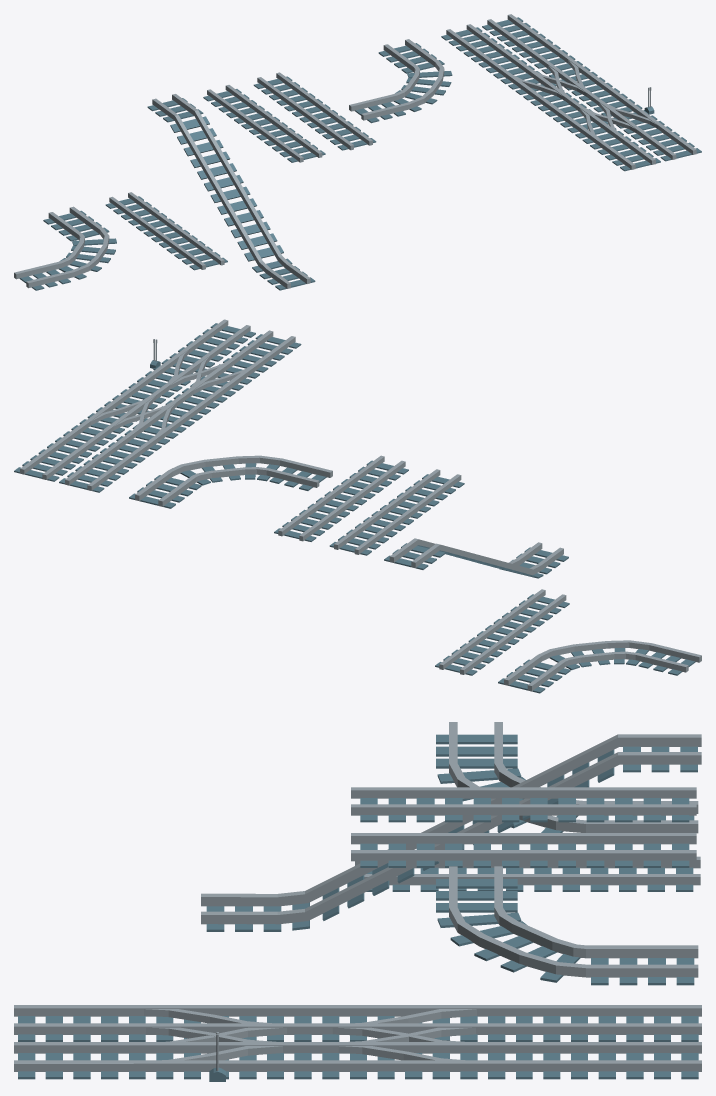
The model's file is SUP_trilhos_obj_20261016.glb.
The picture shows the model from 3 angles, top to bottom: view 1: azimuth 30°, elevation 25°; view 2: azimuth 150°, elevation 25°; view 3: azimuth 270°, elevation 25°; orthographic projection. The views are drawn at different scales.
Parts seen in each view (by area): view 1: RAIL16_TRACK_DERIVED_01, RAIL16_TRACK_DERIVED_00; view 2: RAIL16_TRACK_DERIVED_01, RAIL16_TRACK_DERIVED_00; view 3: RAIL16_TRACK_DERIVED_01, RAIL16_TRACK_DERIVED_00.
Part boxes in pixels (<box>): RAIL16_TRACK_DERIVED_01: <box>14,14,696,288</box>; RAIL16_TRACK_DERIVED_00: <box>19,17,701,290</box>; RAIL16_TRACK_DERIVED_01: <box>20,319,701,691</box>; RAIL16_TRACK_DERIVED_00: <box>14,323,695,693</box>; RAIL16_TRACK_DERIVED_01: <box>14,722,701,1071</box>; RAIL16_TRACK_DERIVED_00: <box>18,734,698,1081</box>.
Size of the model in its own units: 51.02 by 9.65 by 29.18.
